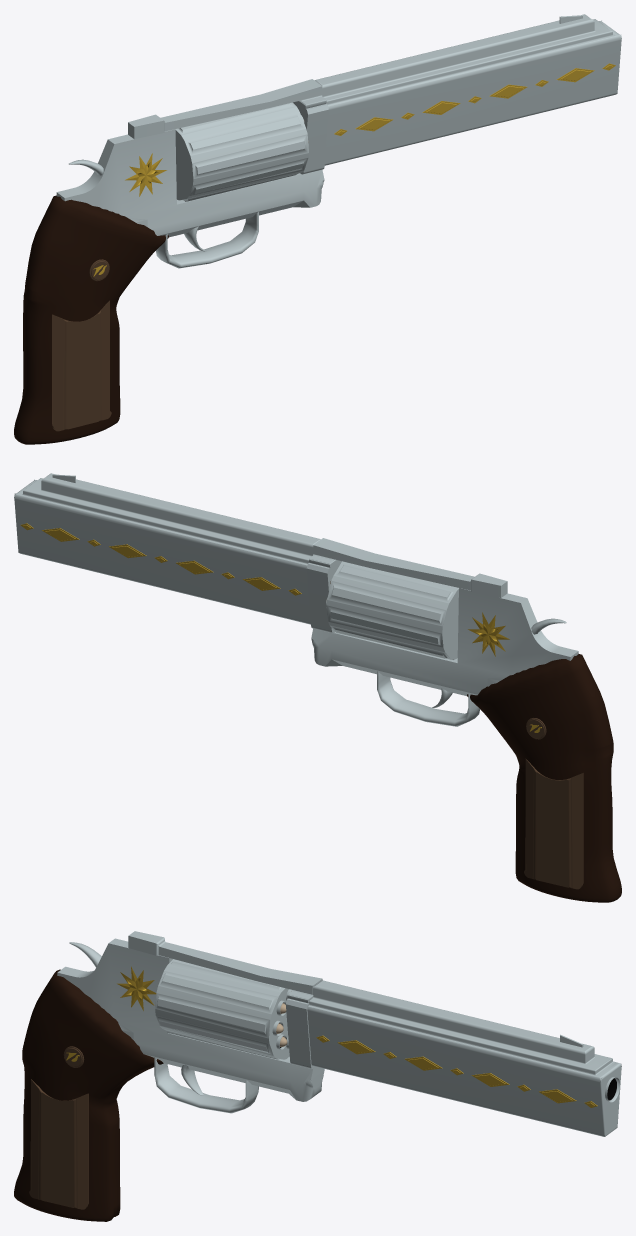
Rendered from Revolver.fbx.
The picture shows the model from 3 angles, top to bottom: view 1: azimuth 30°, elevation 25°; view 2: azimuth 150°, elevation 25°; view 3: azimuth 330°, elevation 25°; orthographic projection.
Parts seen in each view (by area): view 1: Revolver; view 2: Revolver; view 3: Revolver.
Boxes of the visible parts, x1,y1,x2,y2 form: Revolver: (14,14,621,444); Revolver: (14,473,621,902); Revolver: (14,931,621,1221).
Bounding box in the file's own units: 9.99 × 4.73 × 1.18.
